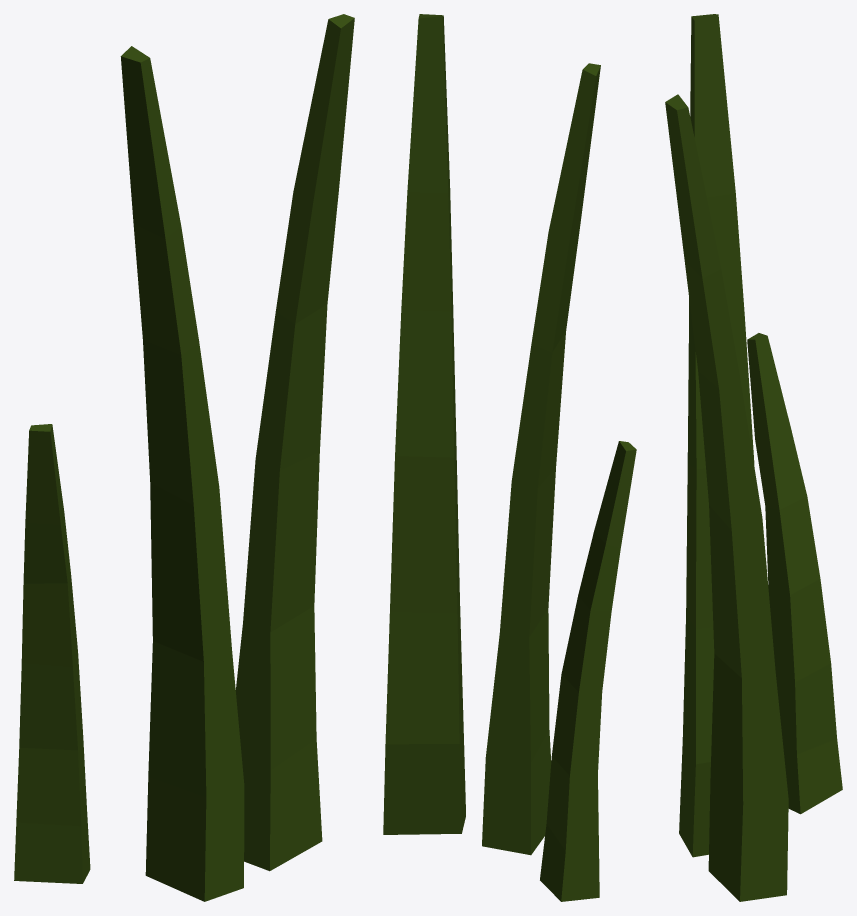
The model's file is grass004_grass1_0_lev1.glb.
The picture shows the model from 3 angles, left to right: view 1: azimuth 30°, elevation 25°; view 2: azimuth 150°, elevation 25°; view 3: azimuth 270°, elevation 25°; orthographic projection. The views are drawn at different scales.
Parts seen in each view (by area): view 1: grass004_grass1_0_lev1; view 2: grass004_grass1_0_lev1; view 3: grass004_grass1_0_lev1.
Boxes of the visible parts, x1,y1,x2,y2 form: grass004_grass1_0_lev1: [14, 14, 354, 901]; grass004_grass1_0_lev1: [383, 14, 636, 901]; grass004_grass1_0_lev1: [665, 14, 842, 901].
Size of the model in its own units: 0.0911 by 0.2633 by 0.0531.
